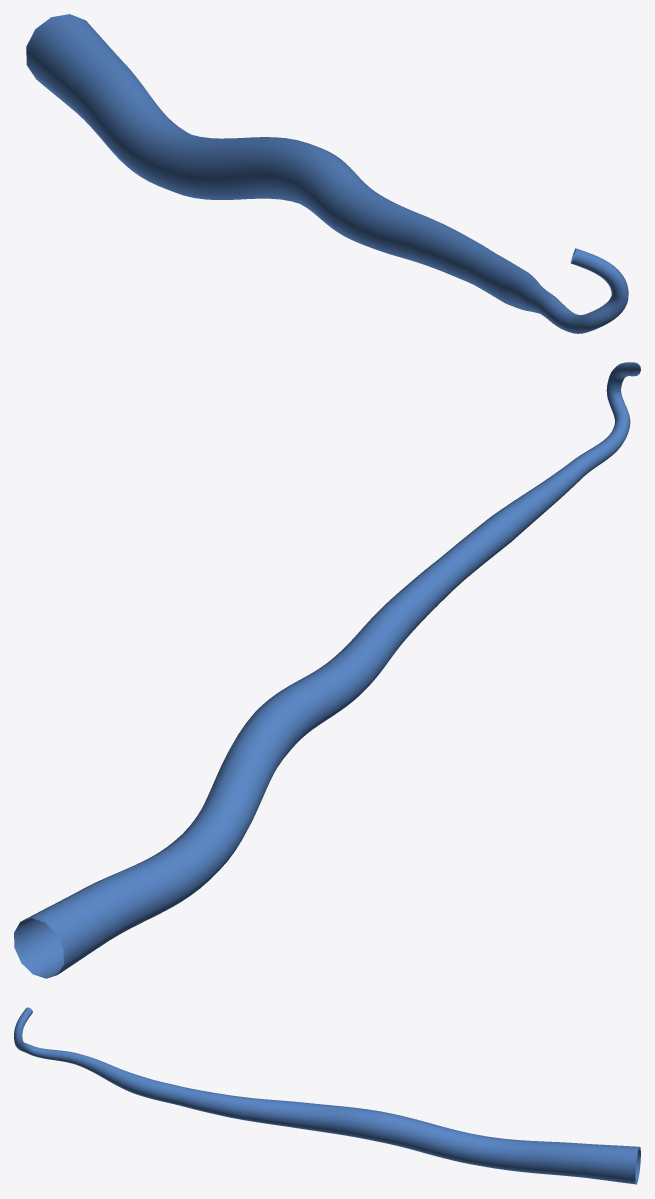
3 renders of one model, top to bottom at view 1: azimuth 30°, elevation 25°; view 2: azimuth 150°, elevation 25°; view 3: azimuth 270°, elevation 25°, orthographic. The views are drawn at different scales.
Parts seen in each view (by area): view 1: 右侧颈内静脉; view 2: 右侧颈内静脉; view 3: 右侧颈内静脉.
Part boxes in pixels (x1=…): 右侧颈内静脉: x1=26, y1=14, x2=628, y2=333; 右侧颈内静脉: x1=14, y1=362, x2=640, y2=978; 右侧颈内静脉: x1=14, y1=1007, x2=640, y2=1184.
Size of the model in its own units: 0.0293 by 0.0641 by 0.2397.
